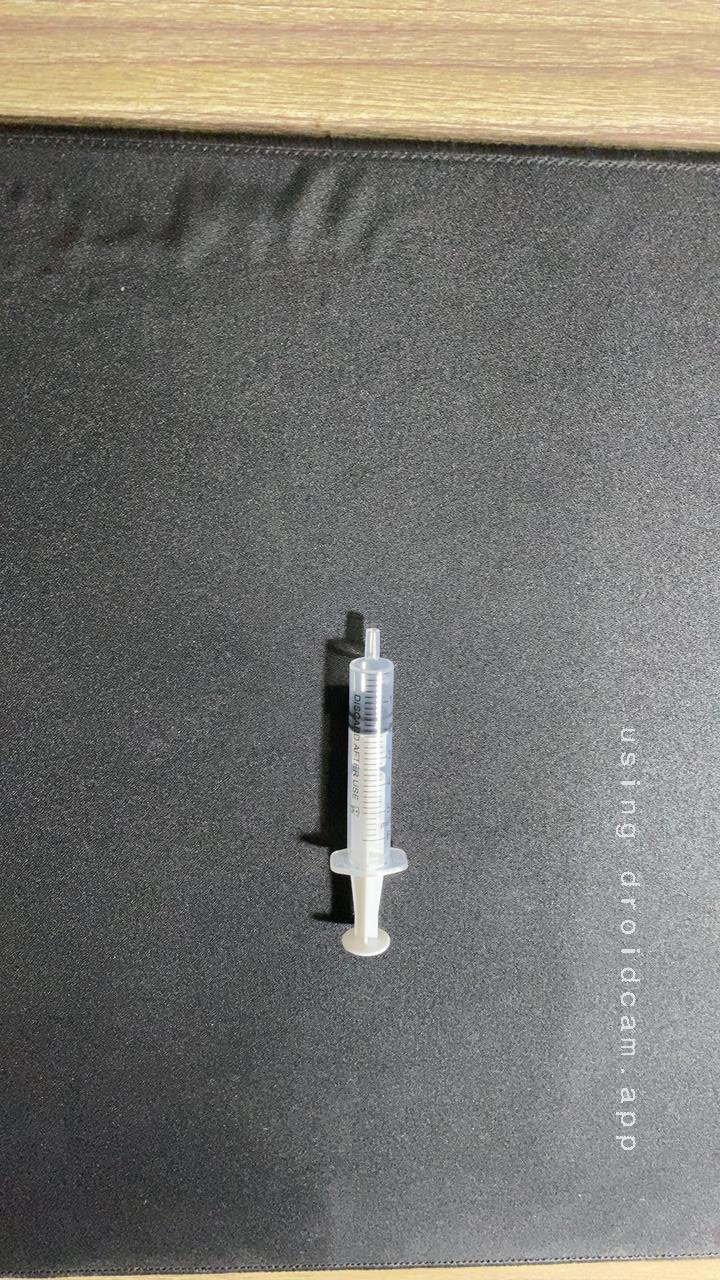syringe: (285, 605, 432, 983)
